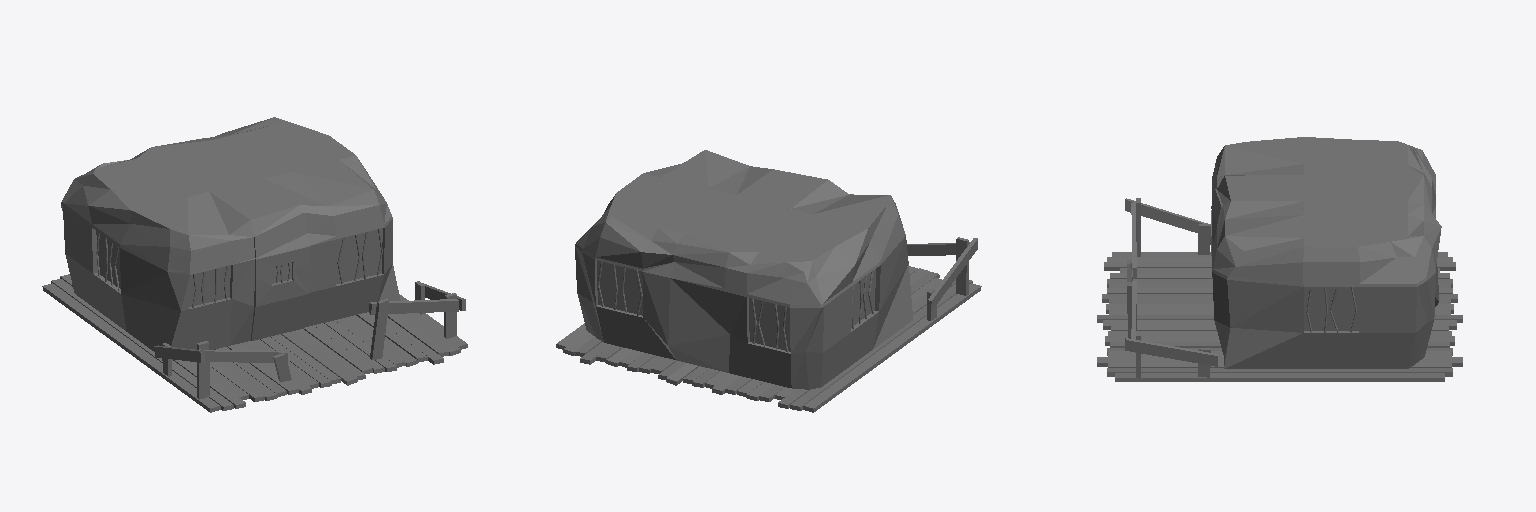
File: ghostWestern_tower_jail_d0.obj
3 renders of one model, left to right at view 1: azimuth 30°, elevation 25°; view 2: azimuth 150°, elevation 25°; view 3: azimuth 270°, elevation 25°, orthographic.
Visible parts, largest first — view 1: ghostWestern_tower_jail_d0_032Jail_building1, Default1, jail_door_032ghostWestern_tower_jail_d1, ghostWestern_tower_jail_d0_032Jail_building; view 2: ghostWestern_tower_jail_d0_032Jail_building1, Default1, ghostWestern_tower_jail_d0_032Jail_building; view 3: ghostWestern_tower_jail_d0_032Jail_building1, Default1.
Part boxes in pixels (x1,y1,x2,y2): ghostWestern_tower_jail_d0_032Jail_building1: (61,117,400,359); Default1: (42,274,467,412); jail_door_032ghostWestern_tower_jail_d1: (251,246,309,340); ghostWestern_tower_jail_d0_032Jail_building: (96,229,382,307); ghostWestern_tower_jail_d0_032Jail_building1: (575,150,912,389); Default1: (556,237,981,412); ghostWestern_tower_jail_d0_032Jail_building: (597,262,873,351); ghostWestern_tower_jail_d0_032Jail_building1: (1211,137,1441,368); Default1: (1097,198,1462,381).
Size of the model in its own units: 8.58 by 3.96 by 10.22.